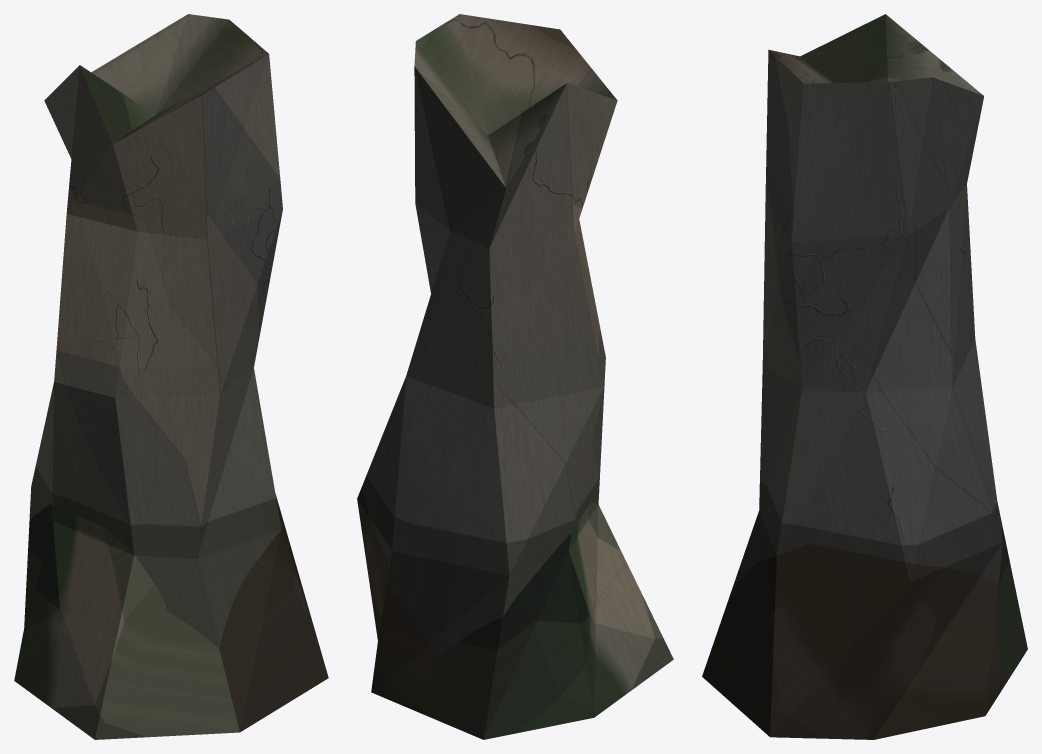
The model's file is monolito-03.glb.
3 renders of one model, left to right at view 1: azimuth 30°, elevation 25°; view 2: azimuth 150°, elevation 25°; view 3: azimuth 270°, elevation 25°, orthographic. The views are drawn at different scales.
Parts seen in each view (by area): view 1: monolito-03-pn; view 2: monolito-03-pn; view 3: monolito-03-pn.
Boxes of the visible parts, x1,y1,x2,y2 form: monolito-03-pn: (14, 14, 328, 739); monolito-03-pn: (357, 14, 673, 739); monolito-03-pn: (702, 14, 1027, 739).
Size of the model in its own units: 1.3 by 3.14 by 1.46.
Materials: 1 (1 with a texture image).
